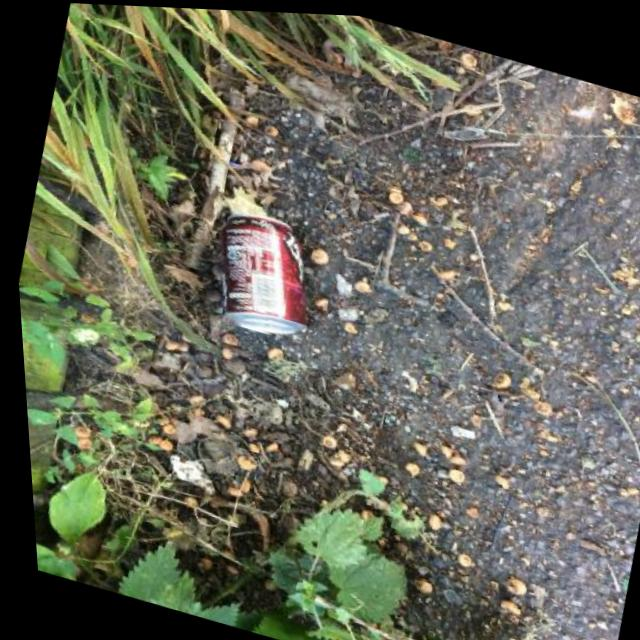metal: (197, 203, 333, 347)
